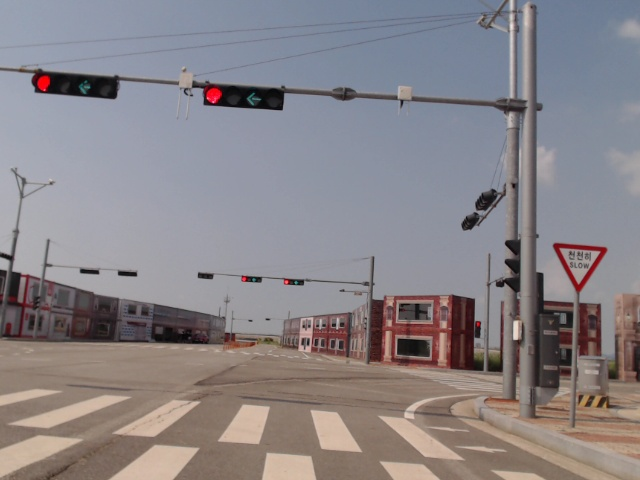left_green_4: (35, 70, 116, 99), (204, 85, 284, 111), (283, 279, 305, 286), (242, 276, 262, 283)
